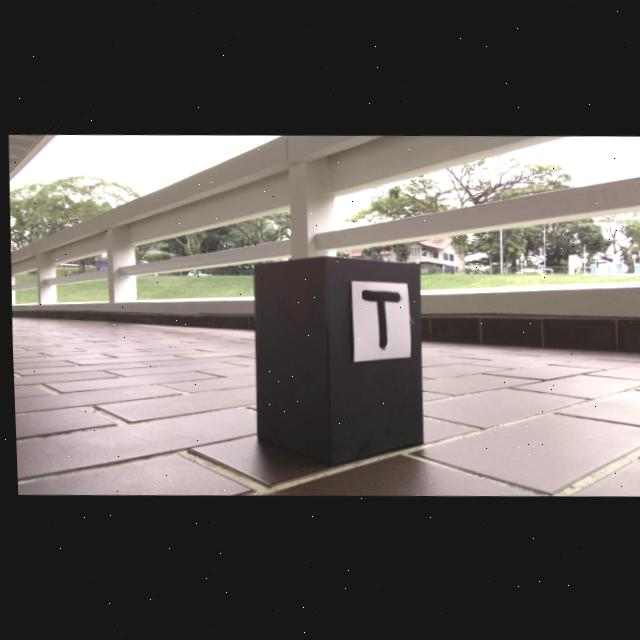T: (359, 291, 398, 350)
